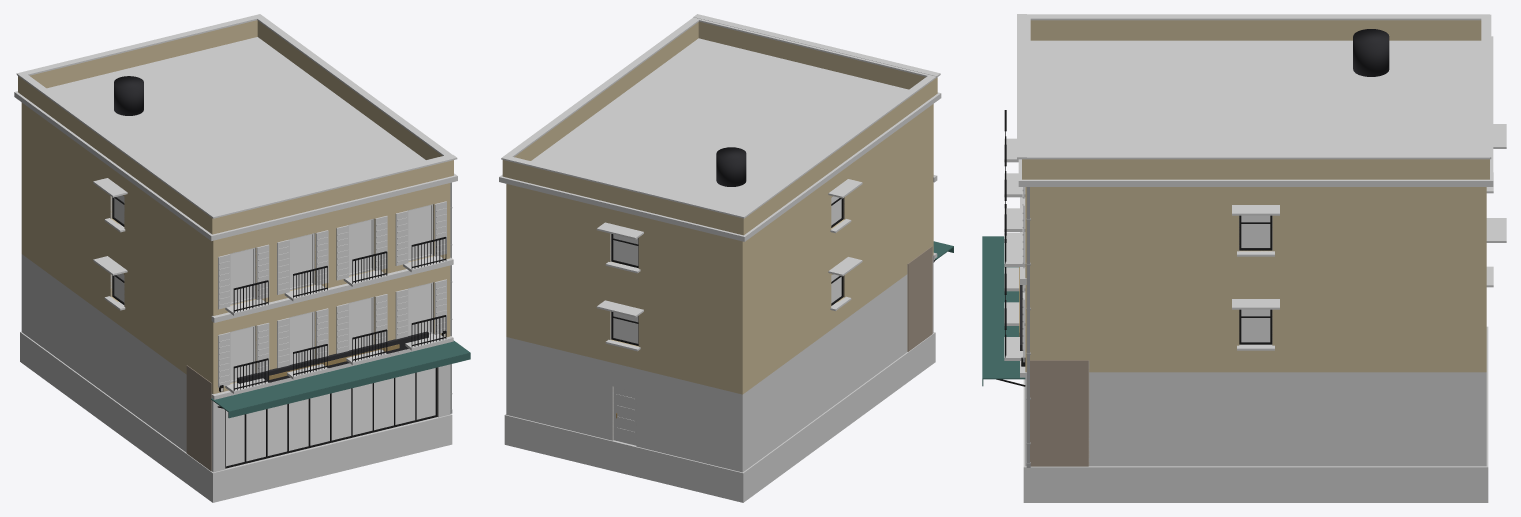
Rendered from shop_house_10x14_3.glb.
The picture shows the model from 3 angles, left to right: view 1: azimuth 30°, elevation 25°; view 2: azimuth 150°, elevation 25°; view 3: azimuth 270°, elevation 25°; orthographic projection. The views are drawn at different scales.
Visible parts, largest first — view 1: shop_house_10x14_3; view 2: shop_house_10x14_3; view 3: shop_house_10x14_3.
Boxes of the visible parts, x1,y1,x2,y2 form: shop_house_10x14_3: (14, 14, 470, 502); shop_house_10x14_3: (499, 14, 953, 502); shop_house_10x14_3: (982, 14, 1506, 502).
Bounding box in the file's own units: 11.22 × 12.1 × 15.92.
